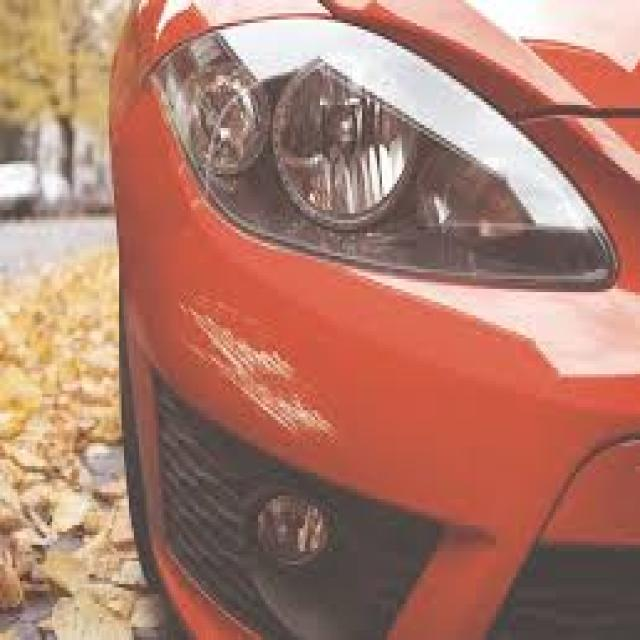Scratch: (181, 315, 318, 450)
